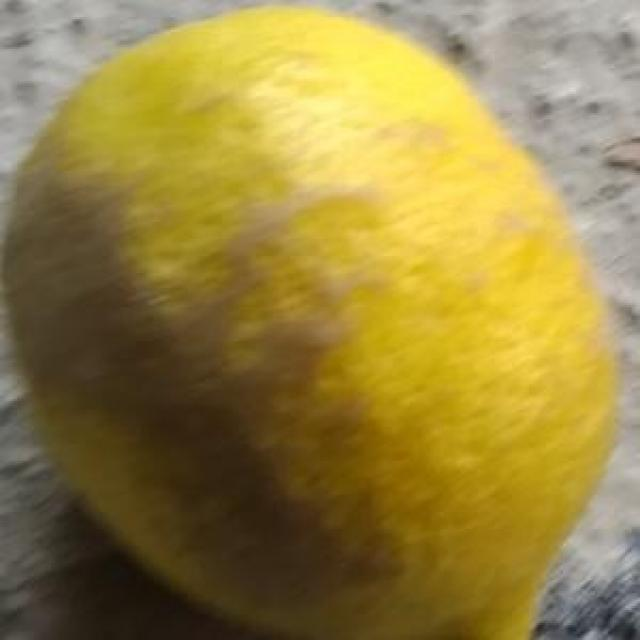lemon: (1, 0, 626, 640)
